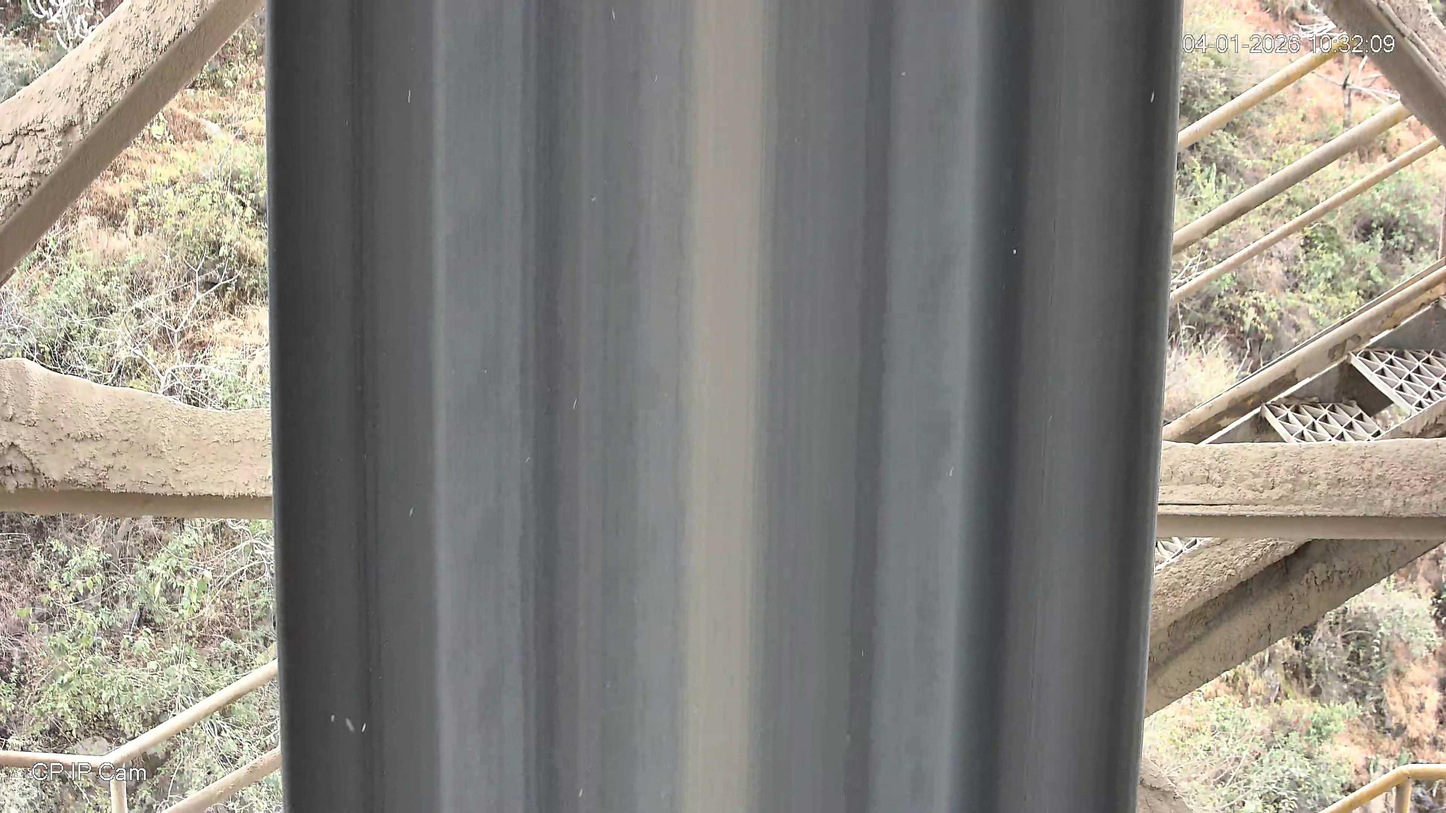belt_roi: (262, 0, 1181, 813)
